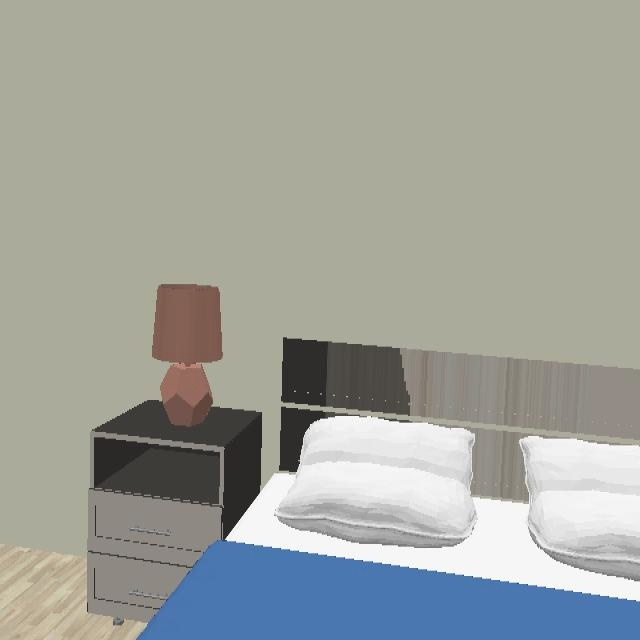bed: (136, 339, 640, 640)
lamp: (151, 285, 225, 427)
nighttable: (88, 401, 264, 623)
pillow: (271, 416, 479, 551), (518, 436, 640, 581)
